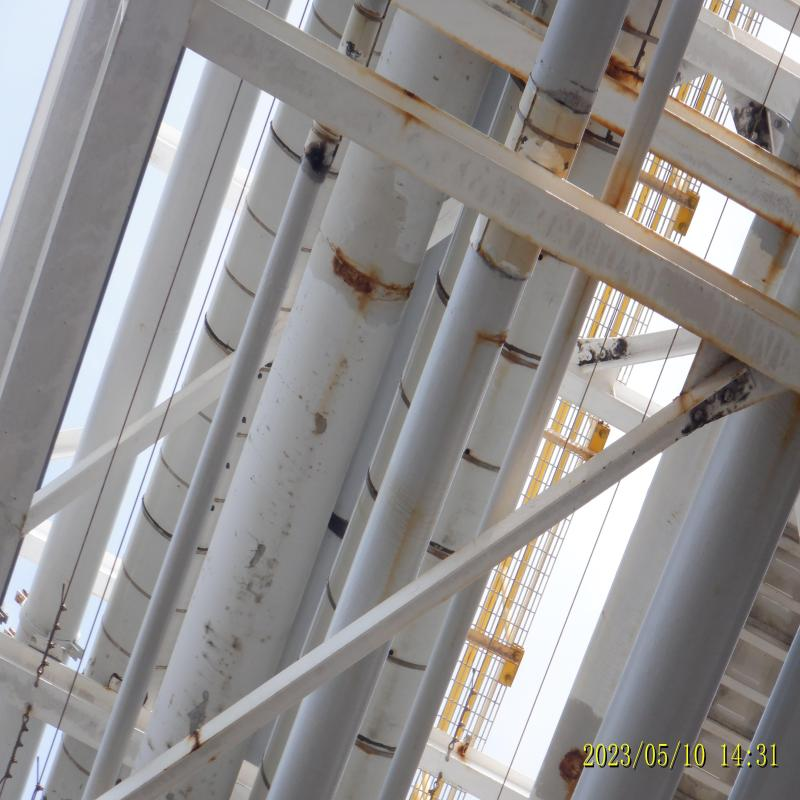corrosion: (306, 137, 334, 178), (568, 752, 585, 785), (344, 245, 352, 280)
